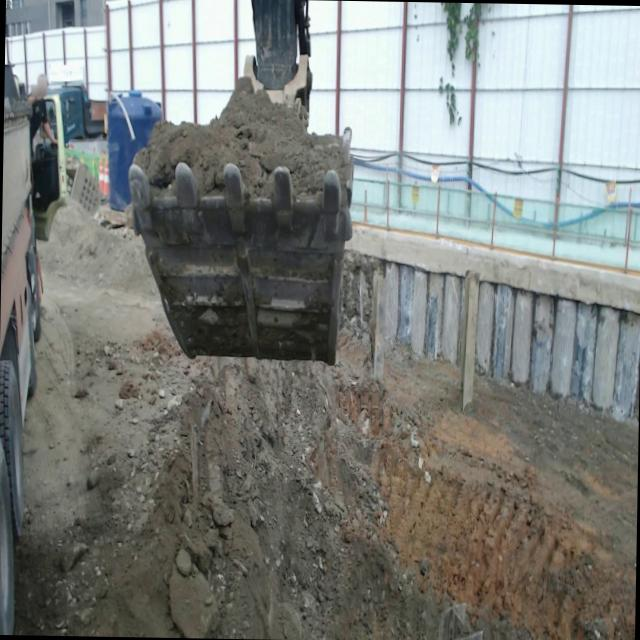cement: (346, 224, 640, 313)
red-sand: (15, 206, 638, 640), (134, 82, 345, 199)
